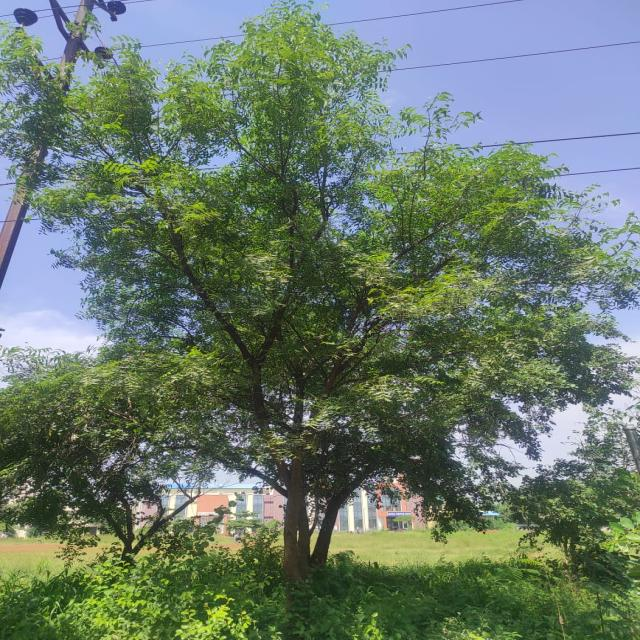Neem Tree: (59, 48, 572, 576)
